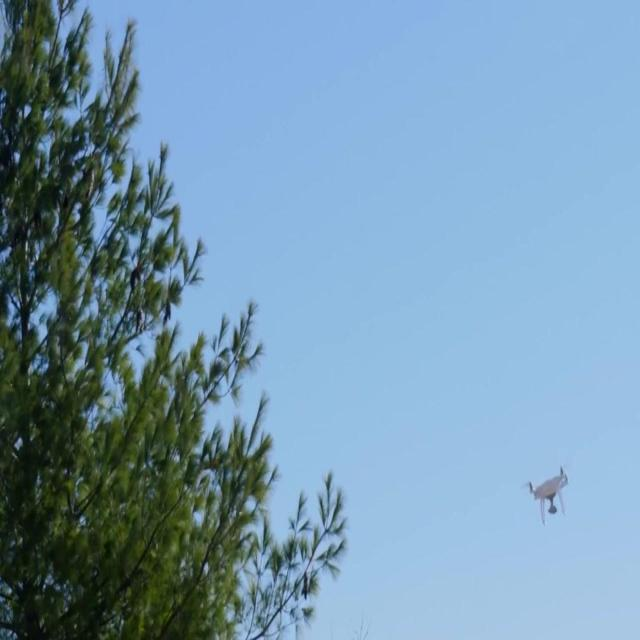drone: (526, 465, 570, 527)
